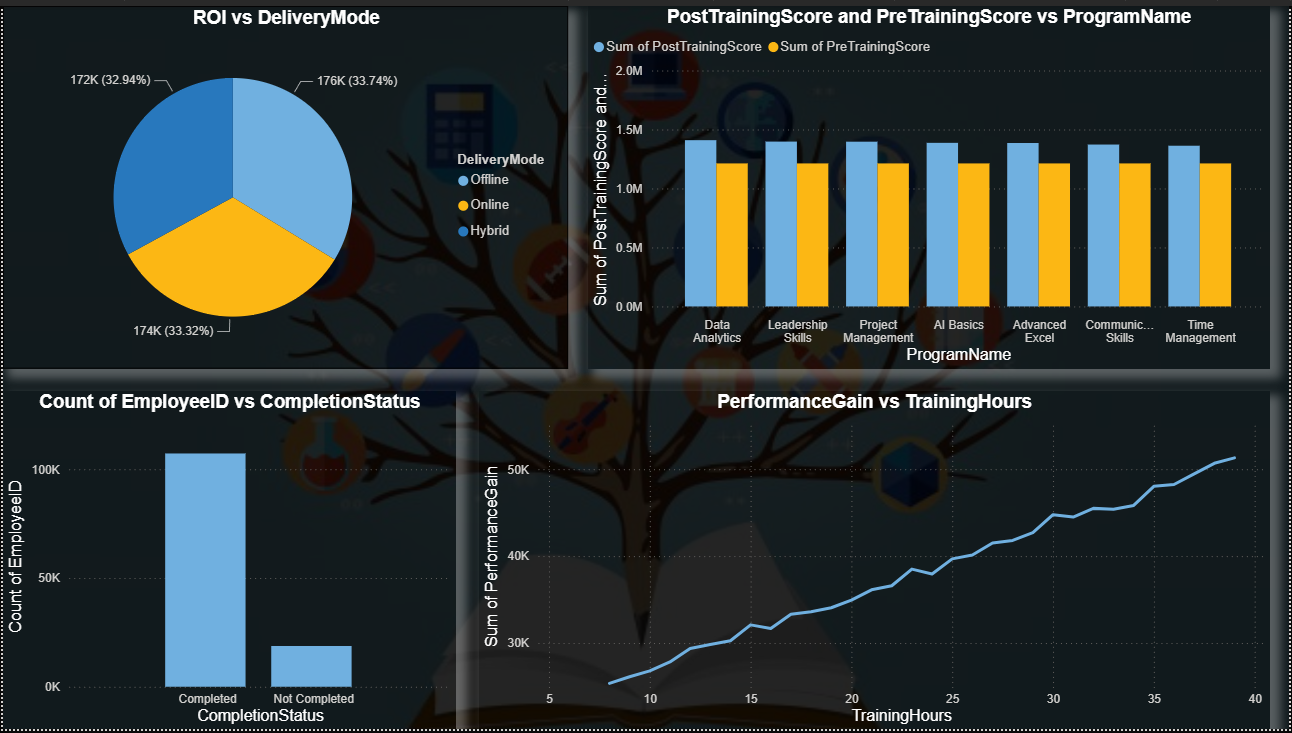

This screenshot's page, from the dashboard's own definition file:
{"tool":"powerbi","page":{"name":"Methods/Process/Statergies","canvas":[1280,720],"ordinal":1},"visuals":[{"type":"pieChart","title":"ROI vs DeliveryMode","fields":{"Category":["LearningDevelopment_Dataset (1).DeliveryMode"],"Y":["Sum(LearningDevelopment_Dataset (1).ROI)"]},"box":[0,0,562.3,360.7],"z":0},{"type":"clusteredColumnChart","title":"PostTrainingScore and PreTrainingScore vs ProgramName","fields":{"Y":["Sum(LearningDevelopment_Dataset (1).PostTrainingScore)","Sum(LearningDevelopment_Dataset (1).PreTrainingScore)"],"Category":["LearningDevelopment_Dataset (1).ProgramName"]},"box":[581.6,0,678.9,360.5],"z":1000},{"type":"lineChart","title":"PerformanceGain vs TrainingHours","fields":{"Category":["LearningDevelopment_Dataset (1).TrainingHours"],"Y":["Sum(LearningDevelopment_Dataset (1).PerformanceGain)"]},"box":[473.7,382.9,786.8,336.8],"z":2000},{"type":"clusteredColumnChart","title":"Count of EmployeeID vs CompletionStatus","fields":{"Category":["LearningDevelopment_Dataset (1).CompletionStatus"],"Y":["CountNonNull(LearningDevelopment_Dataset (1).EmployeeID)"]},"box":[0,383.1,451.6,337.1],"z":3000}]}

Visuals, with their boxes in screenshot pixels (x1, y1, x2, y2), scaled from the page's 1280x720 canvas onto the 1292x733 screenshot:
"ROI vs DeliveryMode" pieChart: BBox(0, 0, 568, 367)
"PostTrainingScore and PreTrainingScore vs ProgramName" clusteredColumnChart: BBox(587, 0, 1272, 367)
"PerformanceGain vs TrainingHours" lineChart: BBox(478, 390, 1272, 732)
"Count of EmployeeID vs CompletionStatus" clusteredColumnChart: BBox(0, 390, 456, 732)
